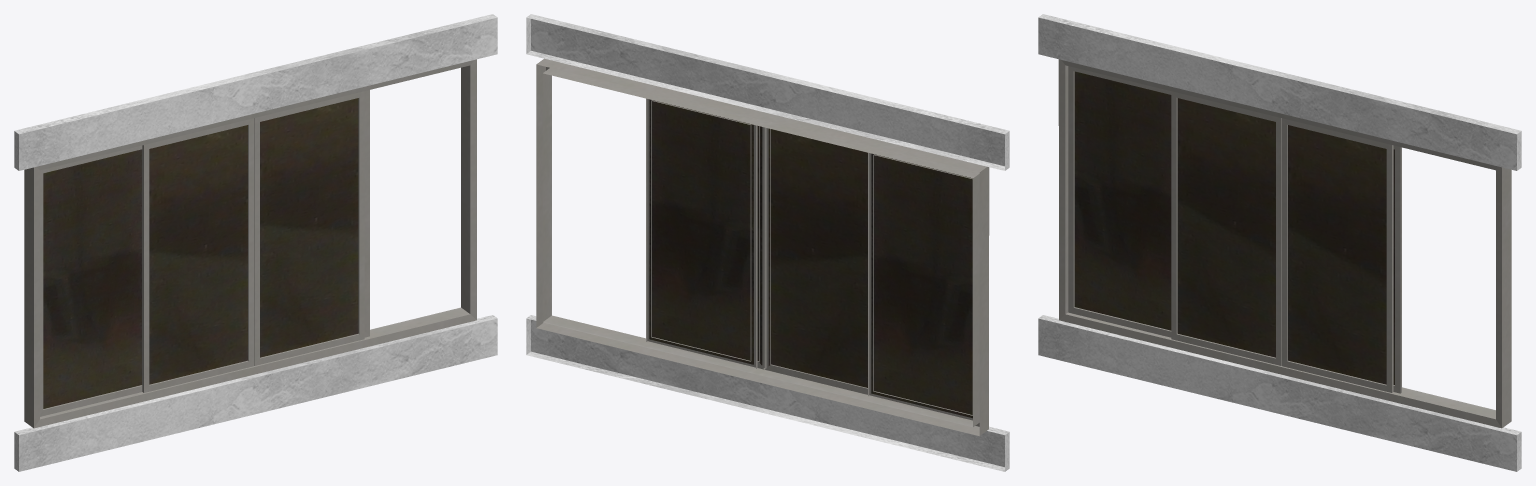
Rendered from Window_1m_006.fbx.
The picture shows the model from 3 angles, left to right: view 1: azimuth 30°, elevation 25°; view 2: azimuth 150°, elevation 25°; view 3: azimuth 330°, elevation 25°; orthographic projection.
Visible parts, largest first — view 1: Window_1m_006; view 2: Window_1m_006; view 3: Window_1m_006.
Boxes of the visible parts, x1,y1,x2,y2 form: Window_1m_006: (14, 14, 497, 471); Window_1m_006: (526, 14, 1009, 471); Window_1m_006: (1038, 14, 1521, 471).
Bounding box in the file's own units: 148 × 100 × 6.75.
1 material, 1 textured.
